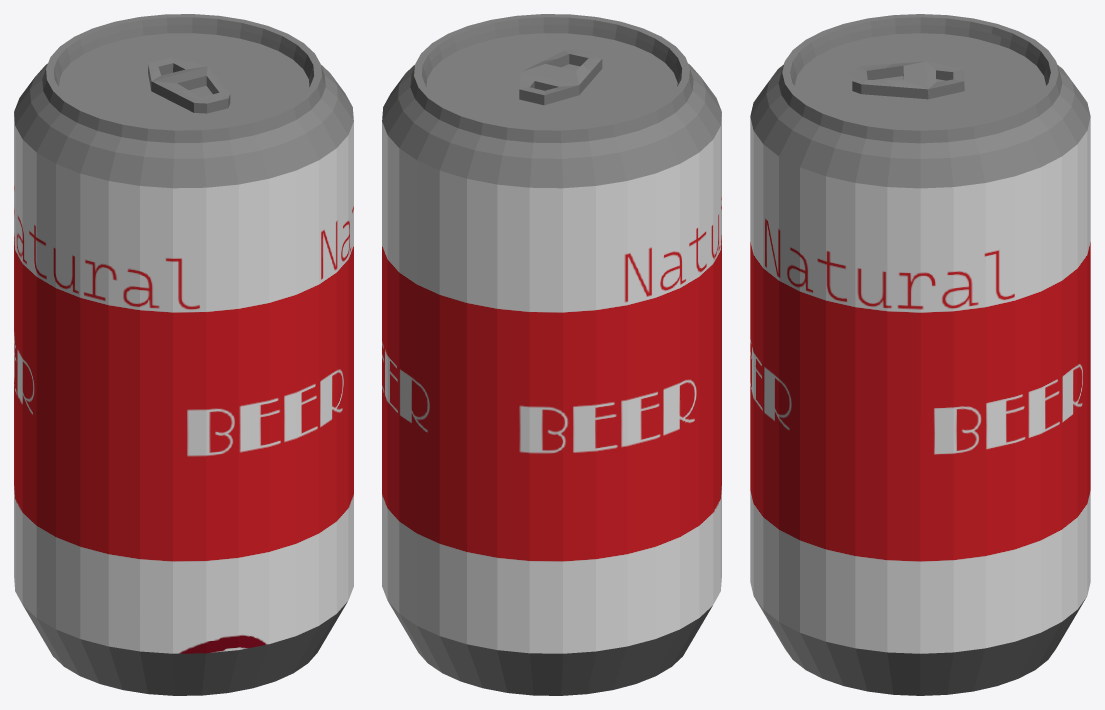
The model's file is beer.fbx.
3 views of the same model, side by side, from view 1: azimuth 30°, elevation 25°; view 2: azimuth 150°, elevation 25°; view 3: azimuth 270°, elevation 25° (orthographic).
Visible parts, largest first — view 1: Cylinder; view 2: Cylinder; view 3: Cylinder.
Boxes of the visible parts, x1,y1,x2,y2 form: Cylinder: [14, 14, 353, 695]; Cylinder: [382, 14, 721, 695]; Cylinder: [750, 14, 1090, 695].
Size of the model in its own units: 200 by 366 by 200.
